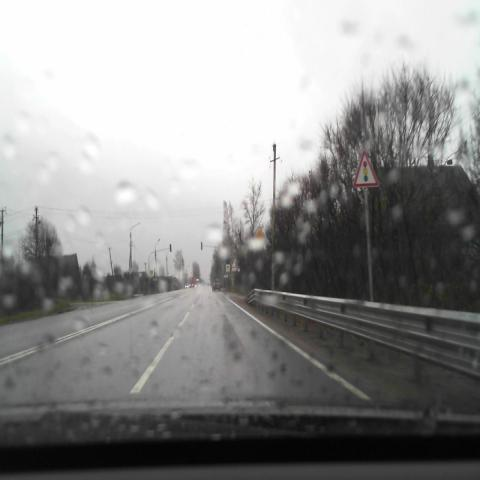1_8: (354, 150, 379, 187)
2_1: (254, 227, 265, 246)
